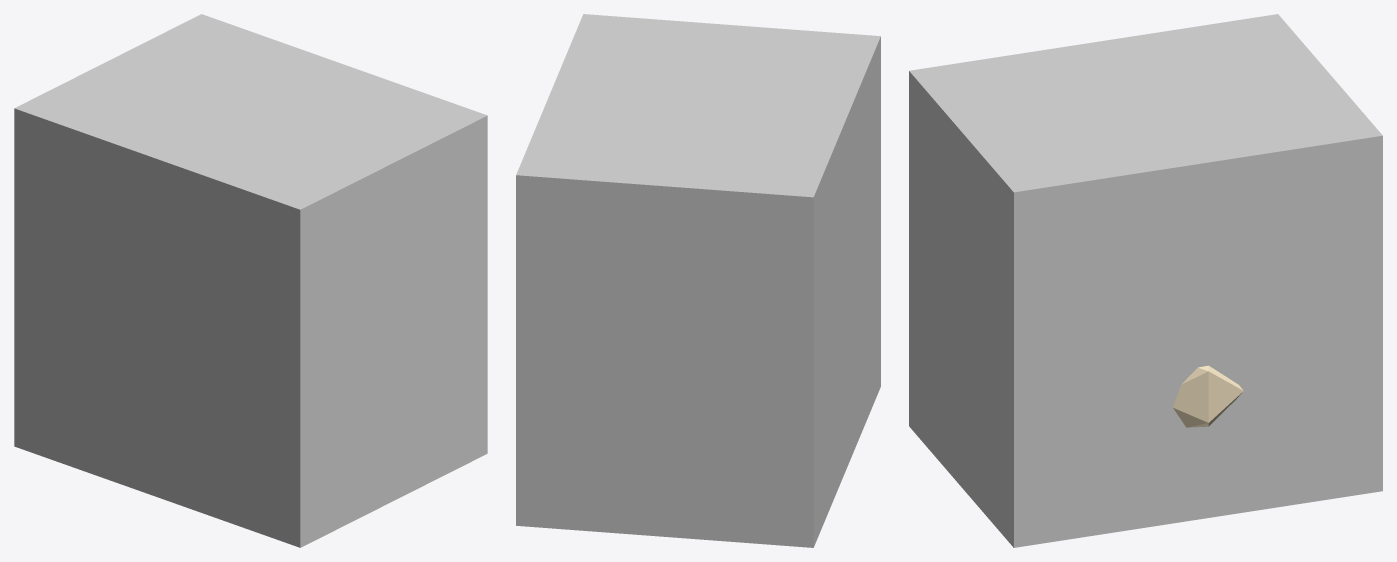
The model's file is desert_pet4.fbx.
3 views of the same model, side by side, from view 1: azimuth 30°, elevation 25°; view 2: azimuth 150°, elevation 25°; view 3: azimuth 270°, elevation 25° (orthographic). The views are drawn at different scales.
Parts seen in each view (by area): view 1: Root__0.00_0.47_0.01__0.74_0.95_0.95; view 2: Root__0.00_0.47_0.01__0.74_0.95_0.95; view 3: Root__0.00_0.47_0.01__0.74_0.95_0.95, WingL__Body__-0.27_0.38_0.03.
Boxes of the visible parts, x1,y1,x2,y2 form: Root__0.00_0.47_0.01__0.74_0.95_0.95: [14, 14, 487, 547]; Root__0.00_0.47_0.01__0.74_0.95_0.95: [516, 14, 880, 547]; Root__0.00_0.47_0.01__0.74_0.95_0.95: [909, 14, 1382, 547]; WingL__Body__-0.27_0.38_0.03: [1173, 365, 1243, 427].
Bounding box in the file's own units: 28.63 × 26.6 × 32.13.
1 material, 1 textured.
